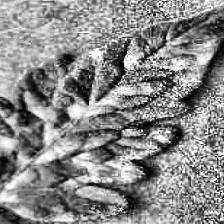leaf mold: (0, 0, 224, 221)
